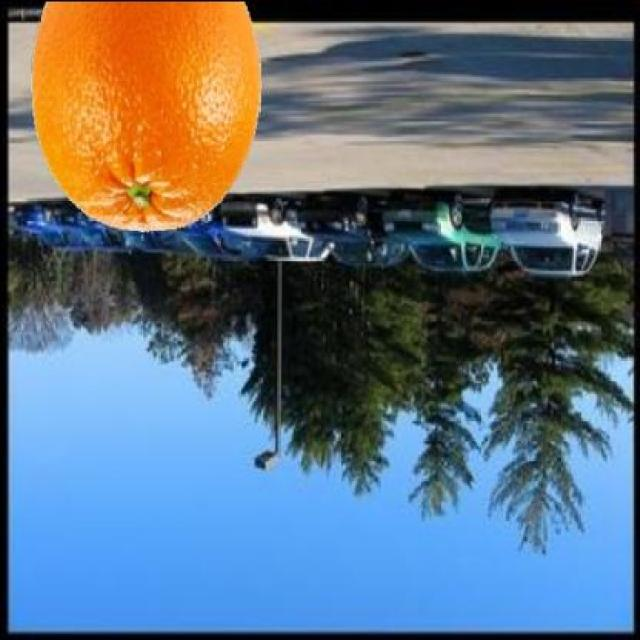Orange: (29, 0, 261, 232)
